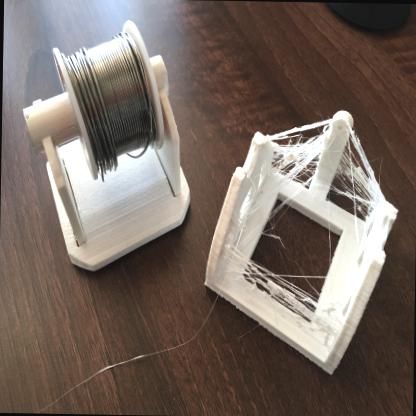fail: (276, 116, 327, 191), (338, 141, 389, 207)
